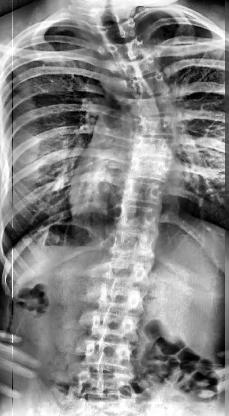Vertebrae: (70, 361, 132, 393), (116, 200, 166, 236), (78, 335, 134, 367), (109, 228, 161, 258), (88, 307, 140, 337), (102, 256, 152, 286), (130, 111, 182, 139), (95, 281, 147, 309), (102, 36, 160, 61), (126, 74, 180, 100), (128, 134, 178, 162), (114, 54, 170, 78), (121, 179, 170, 205), (126, 93, 176, 118), (94, 18, 146, 40), (126, 158, 170, 182), (90, 3, 136, 21)
